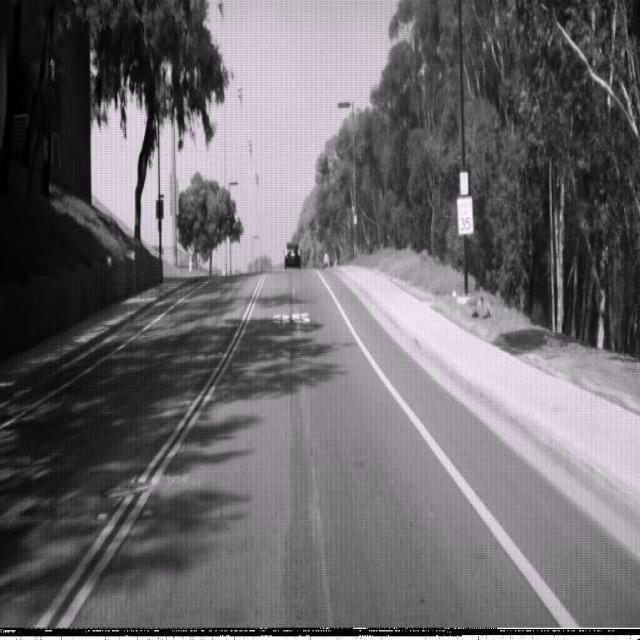speedLimit35: (456, 194, 474, 235)
